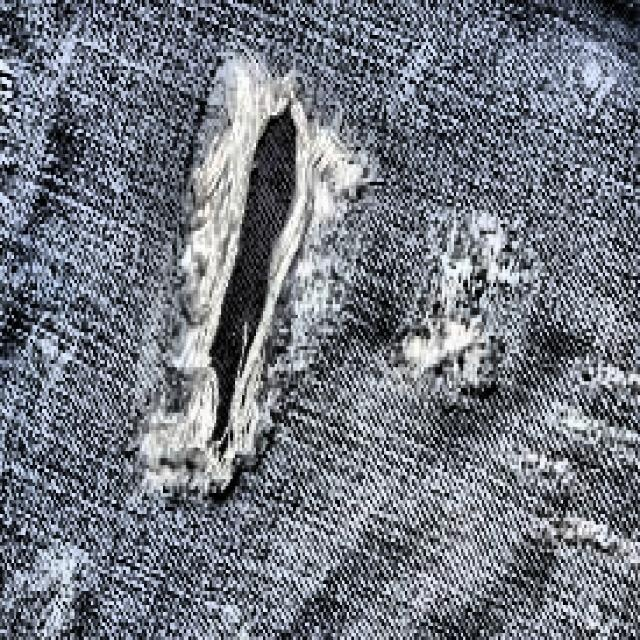Hole: (95, 16, 427, 549)
